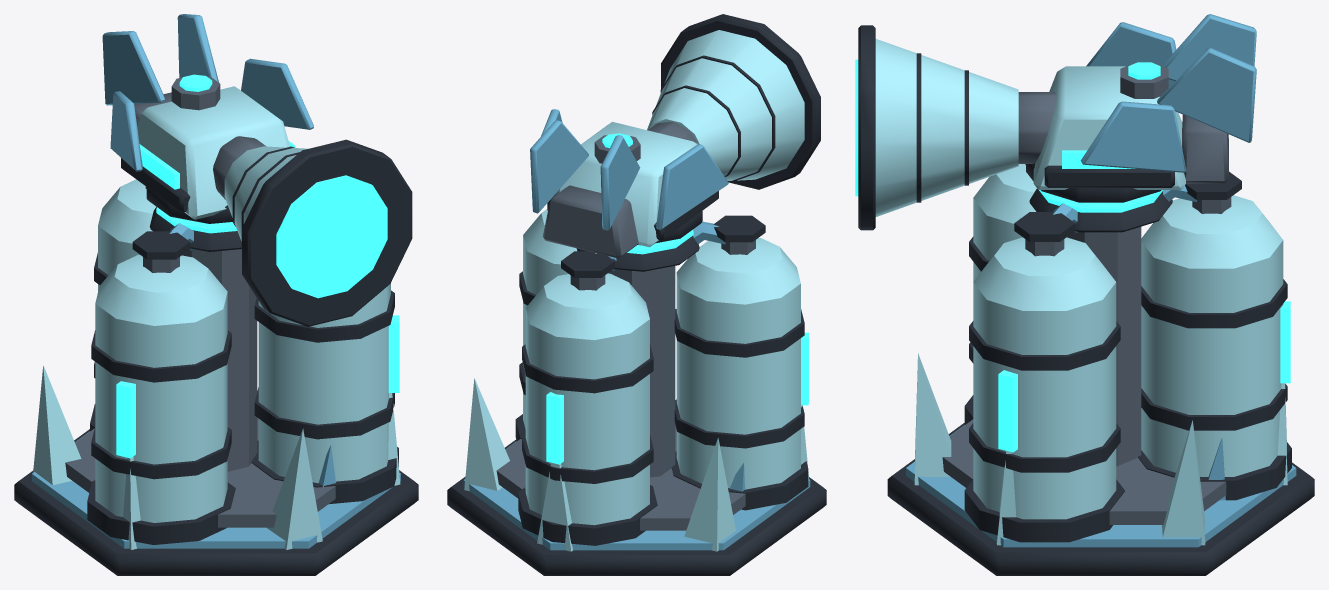
The model's file is cryo.glb.
3 views of the same model, side by side, from view 1: azimuth 30°, elevation 25°; view 2: azimuth 150°, elevation 25°; view 3: azimuth 270°, elevation 25° (orthographic). The views are drawn at different scales.
Parts seen in each view (by area): view 1: base, kick_nozzle, turret; view 2: base, kick_nozzle, turret; view 3: base, turret, kick_nozzle.
Boxes of the visible parts, box(x1,y1,x2,y2) form: base: box(14, 179, 418, 575); kick_nozzle: box(213, 136, 412, 326); turret: box(102, 14, 313, 223); base: box(447, 209, 826, 575); kick_nozzle: box(647, 14, 820, 189); turret: box(530, 109, 728, 258); base: box(887, 164, 1314, 575); turret: box(1026, 14, 1256, 202); kick_nozzle: box(855, 25, 1056, 230).
Size of the model in its own units: 8.66 by 11.89 by 10.6.
